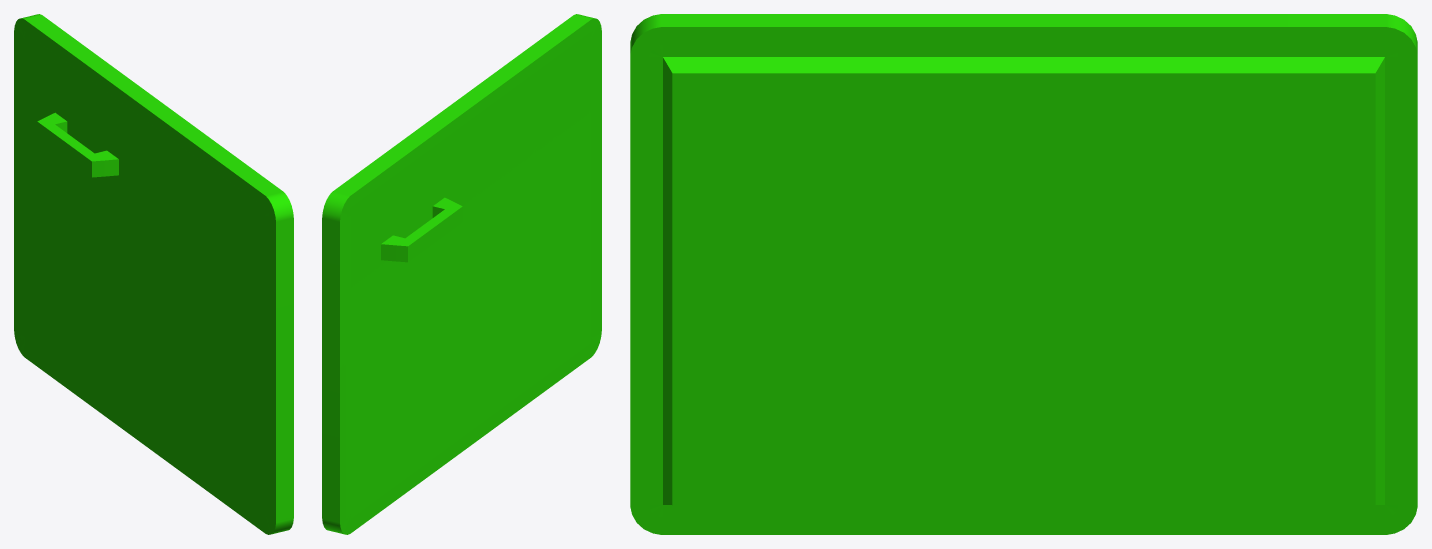
The model's file is Restaurant_Cupboard_Door.fbx.
3 renders of one model, left to right at view 1: azimuth 30°, elevation 25°; view 2: azimuth 150°, elevation 25°; view 3: azimuth 270°, elevation 25°, orthographic. The views are drawn at different scales.
Parts seen in each view (by area): view 1: Restaurant_Cupboard_Door; view 2: Restaurant_Cupboard_Door; view 3: Restaurant_Cupboard_Door.
Part boxes in pixels (box(x1,y1,x2,y2)): Restaurant_Cupboard_Door: box(14, 14, 293, 534); Restaurant_Cupboard_Door: box(322, 14, 601, 534); Restaurant_Cupboard_Door: box(630, 14, 1417, 534).
Size of the model in its own units: 8.59 by 53.78 by 75.55.
